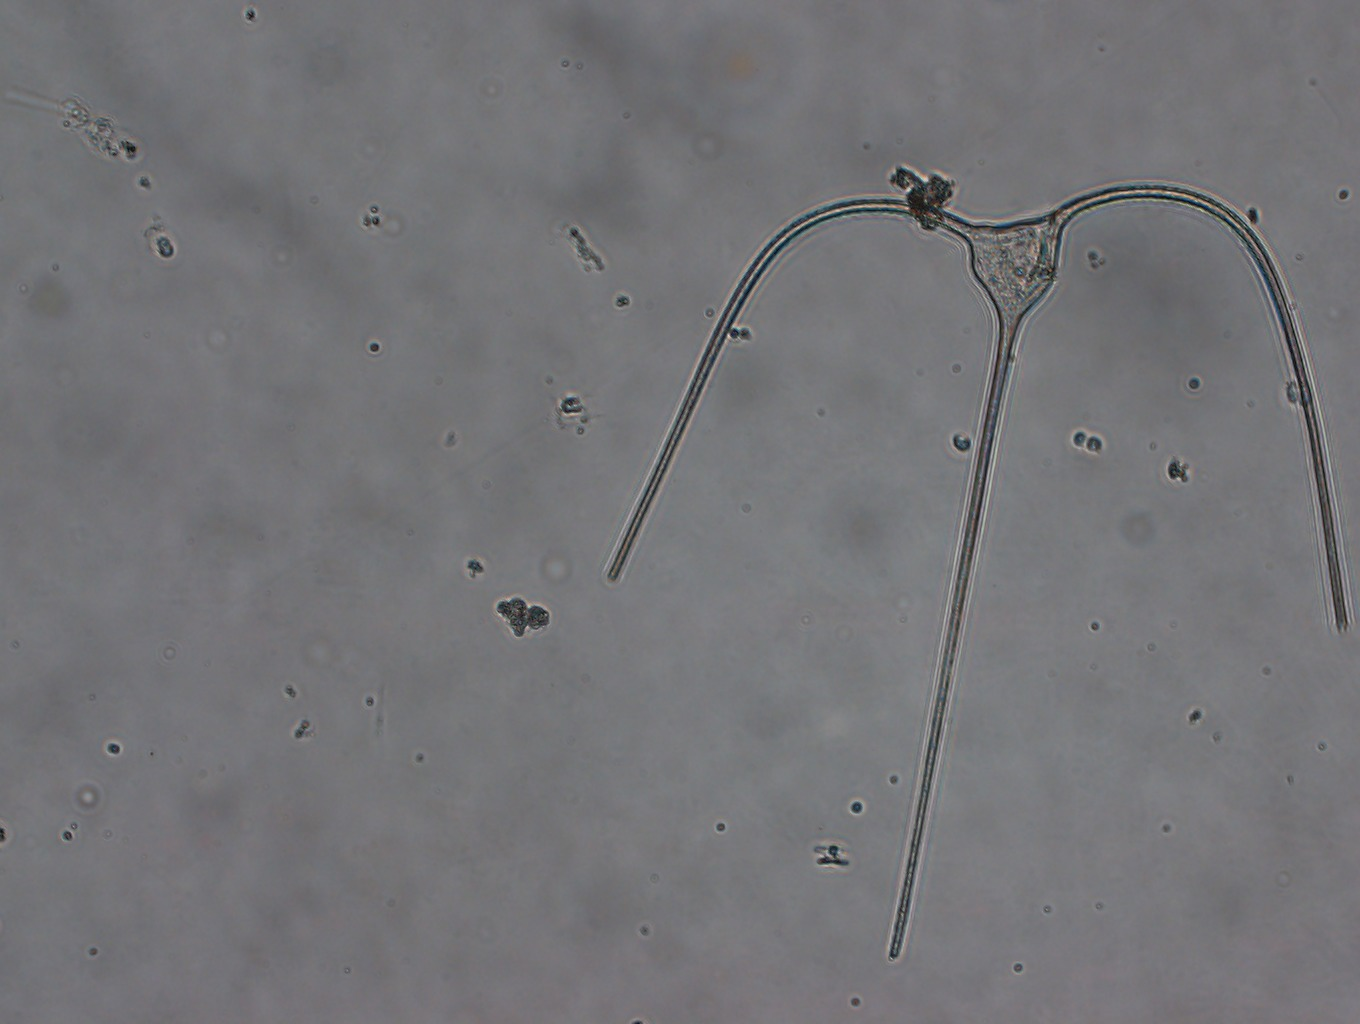ceratium trichoceros: (607, 179, 1351, 959)
